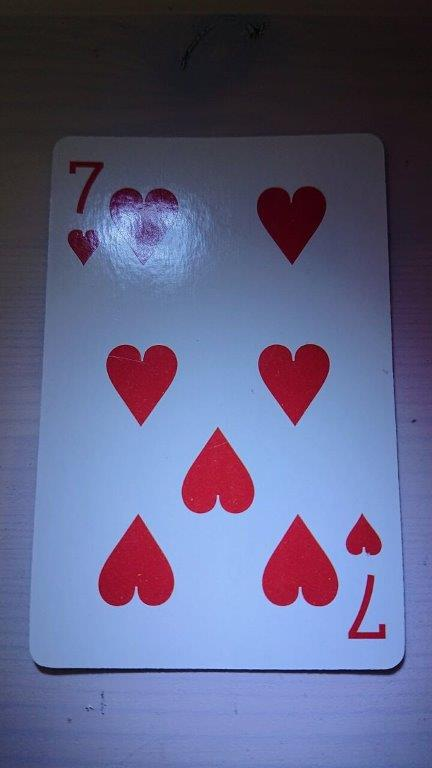7H: (26, 130, 407, 673)
